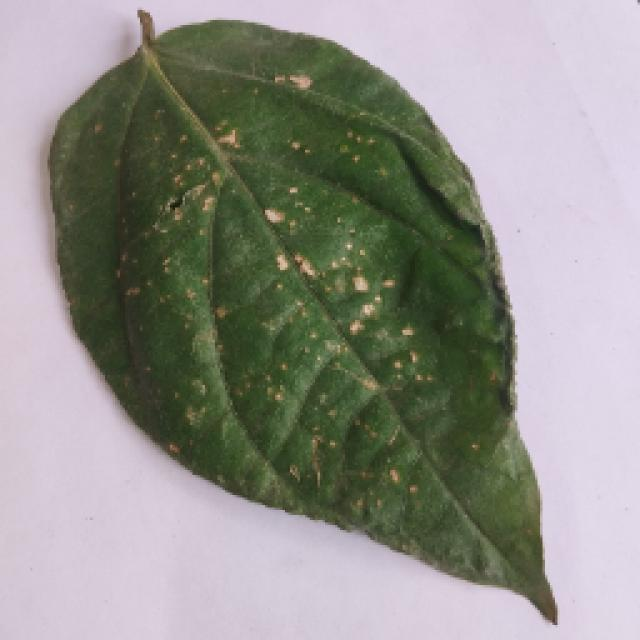pollu-disease: (23, 25, 595, 630)
